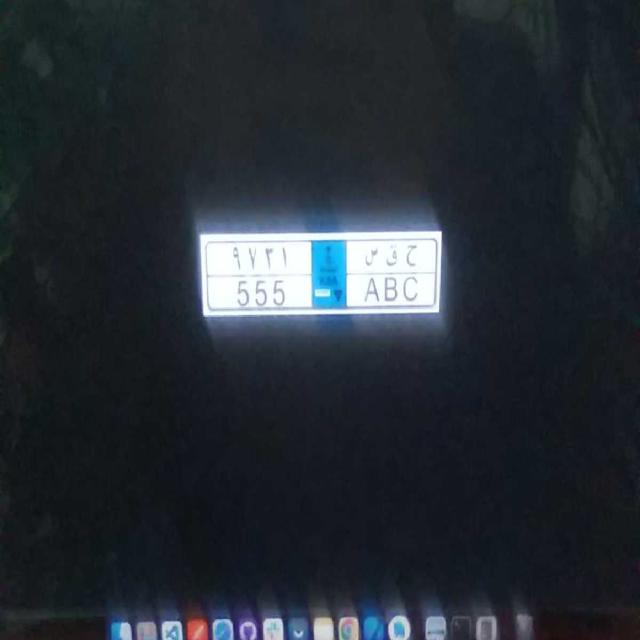license_plate: (216, 272, 427, 309)
